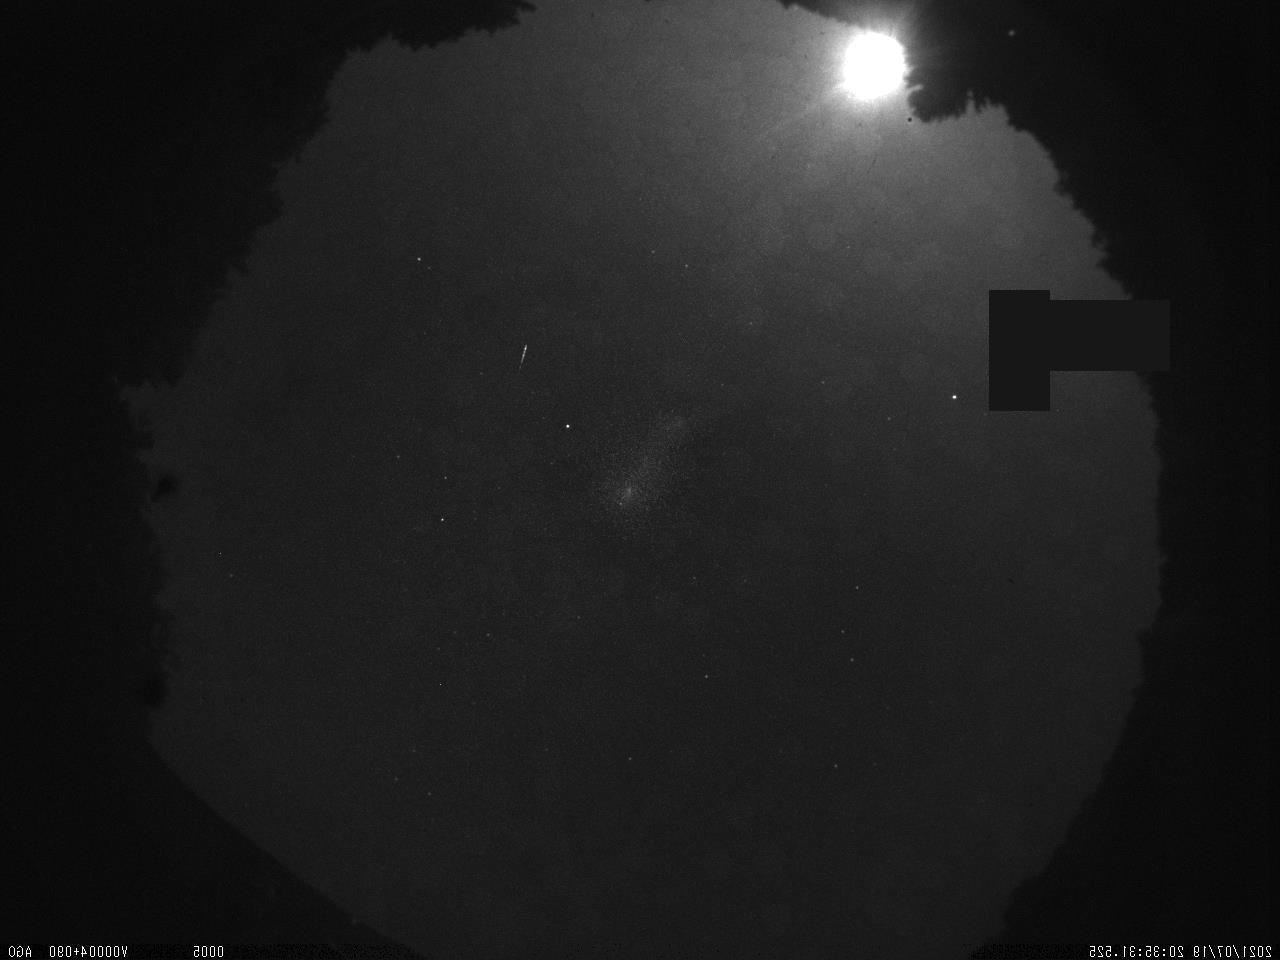meteor: (506, 334, 542, 388)
